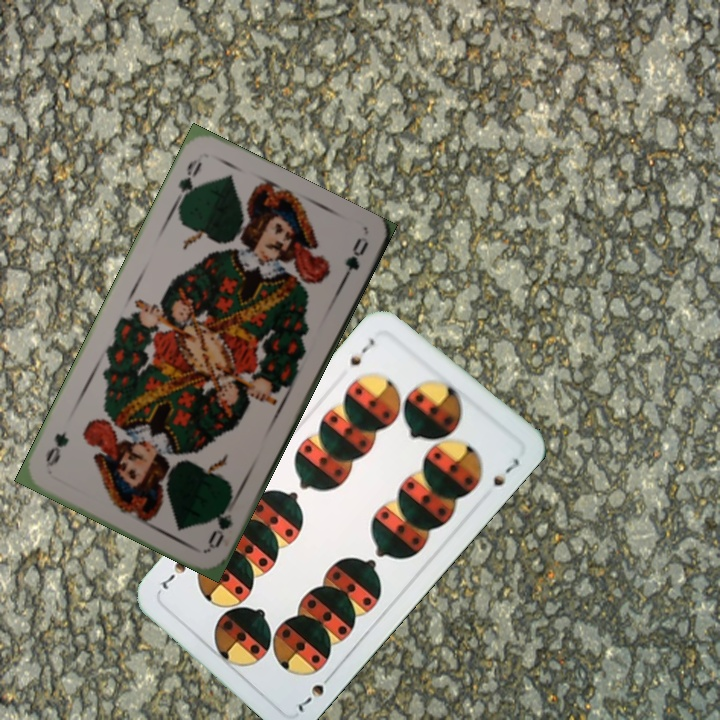GO: (169, 153, 205, 209), (204, 494, 236, 551)
S7: (293, 668, 337, 716), (344, 334, 378, 369)
